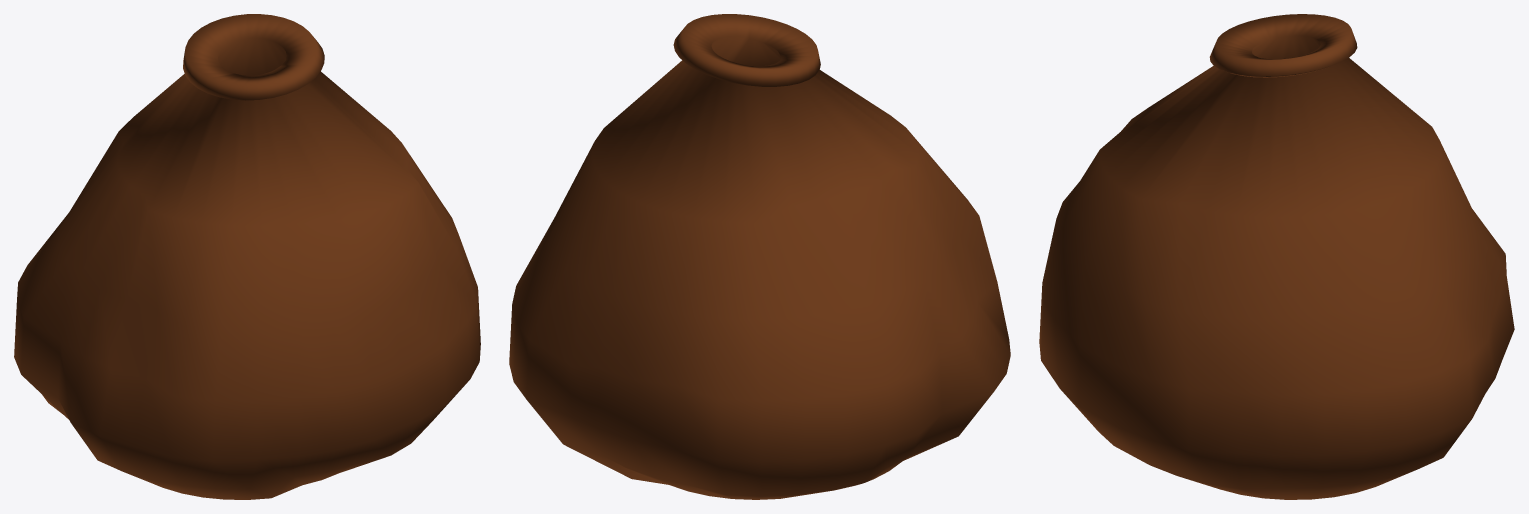
Rendered from bag.fbx.
The picture shows the model from 3 angles, left to right: view 1: azimuth 30°, elevation 25°; view 2: azimuth 150°, elevation 25°; view 3: azimuth 270°, elevation 25°; orthographic projection. The views are drawn at different scales.
Visible parts, largest first — view 1: Bag; view 2: Bag; view 3: Bag.
Boxes of the visible parts, x1=… form: Bag: x1=14, y1=14, x2=480, y2=499; Bag: x1=509, y1=14, x2=1010, y2=499; Bag: x1=1039, y1=14, x2=1514, y2=499.
Size of the model in its own units: 272 by 256 by 266.
